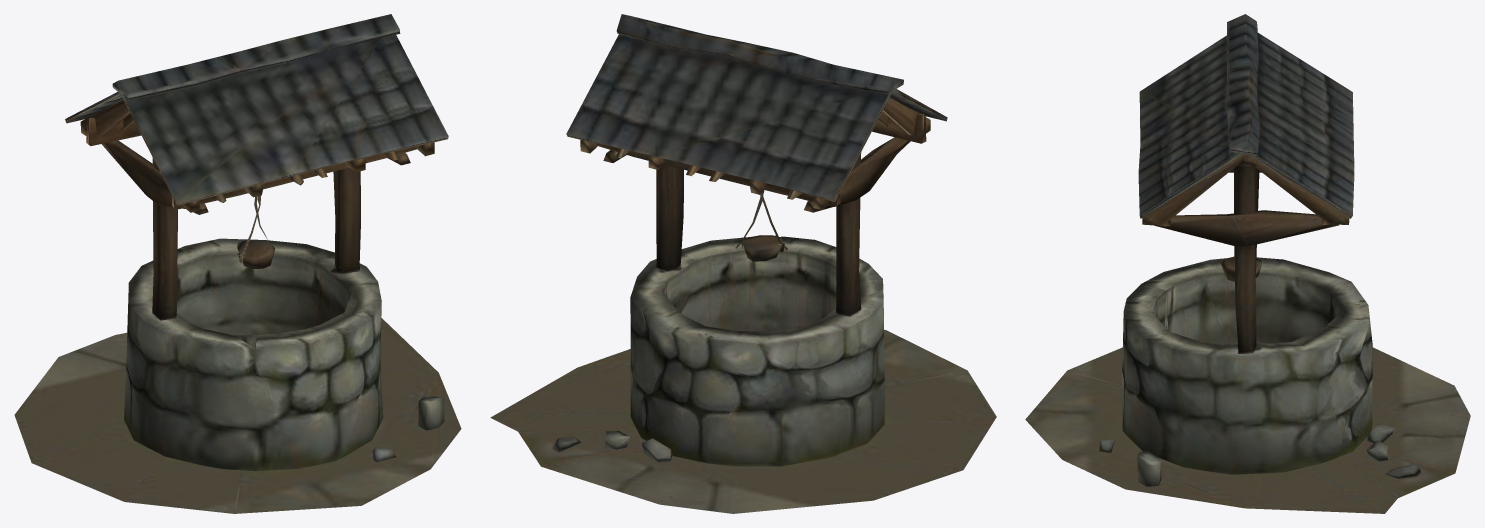
File: world-well.glb
3 views of the same model, side by side, from view 1: azimuth 30°, elevation 25°; view 2: azimuth 150°, elevation 25°; view 3: azimuth 270°, elevation 25° (orthographic). The views are drawn at different scales.
Bounding box in the file's own units: 2.89 × 2.5 × 2.88.
1 material, 1 textured.
